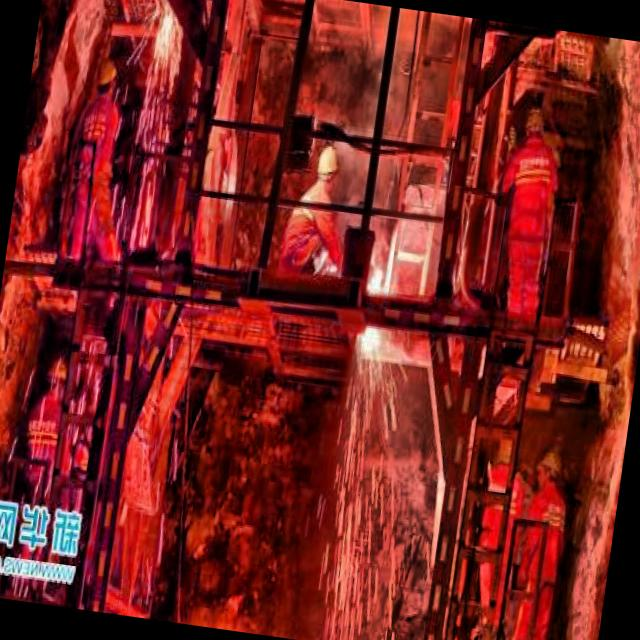helmet: (88, 52, 125, 106), (312, 134, 344, 192), (42, 347, 71, 404), (520, 100, 554, 147), (532, 445, 564, 492)
